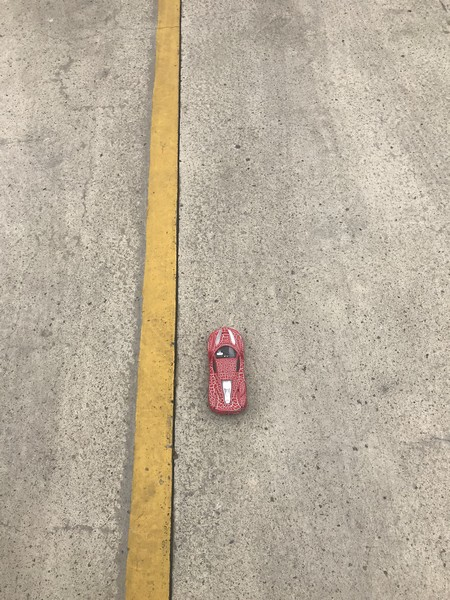RC: (205, 326, 250, 416)
